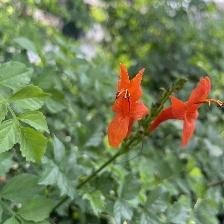honeysuckle: (107, 59, 150, 154)
